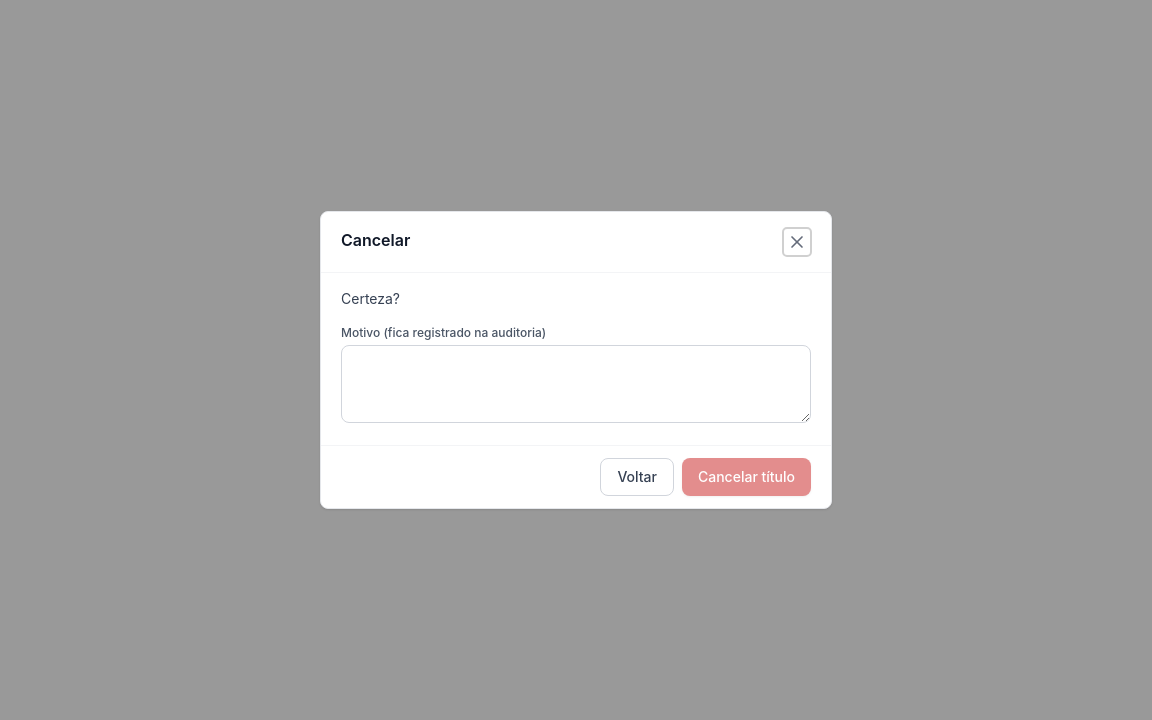
ConfirmarComMotivo: falha do callback › falha: mostra a mensagem, libera o botão e mantém o motivo digitado
In the text box labelled "Motivo (fica registrado na auditoria)": (576, 384) x1=341 y1=345 x2=811 y2=423, type "Lançado em duplicidade"
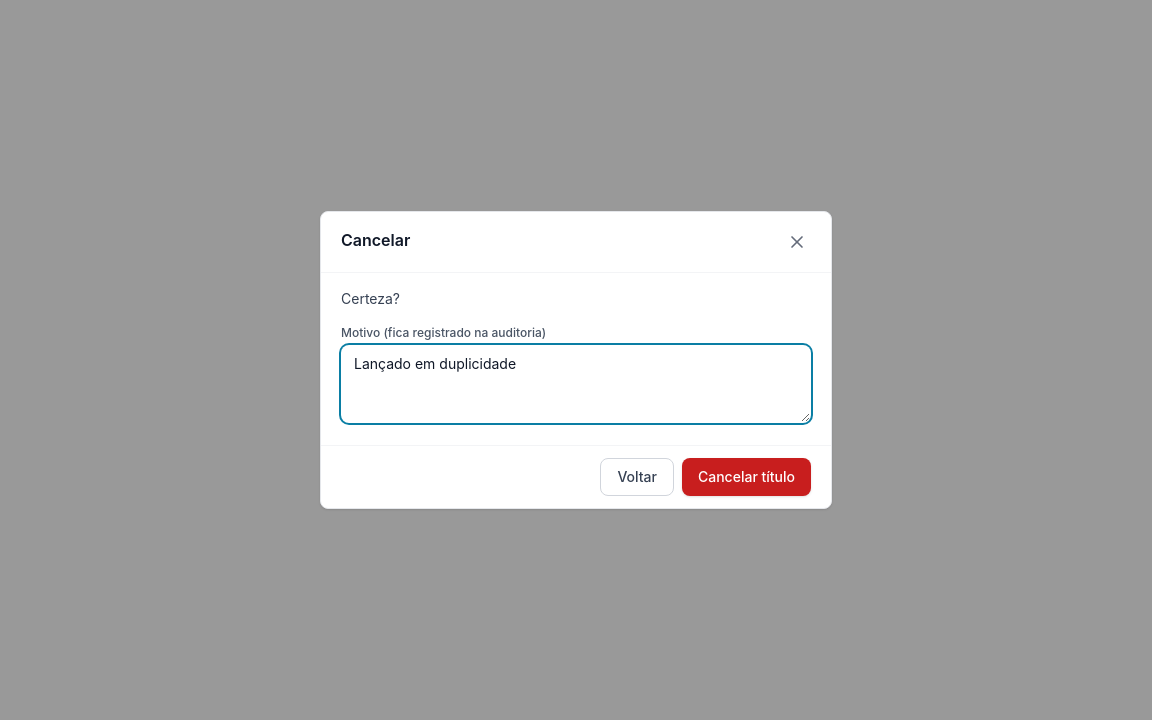
Click the button "Cancelar título": (746, 477) x1=682 y1=458 x2=811 y2=496
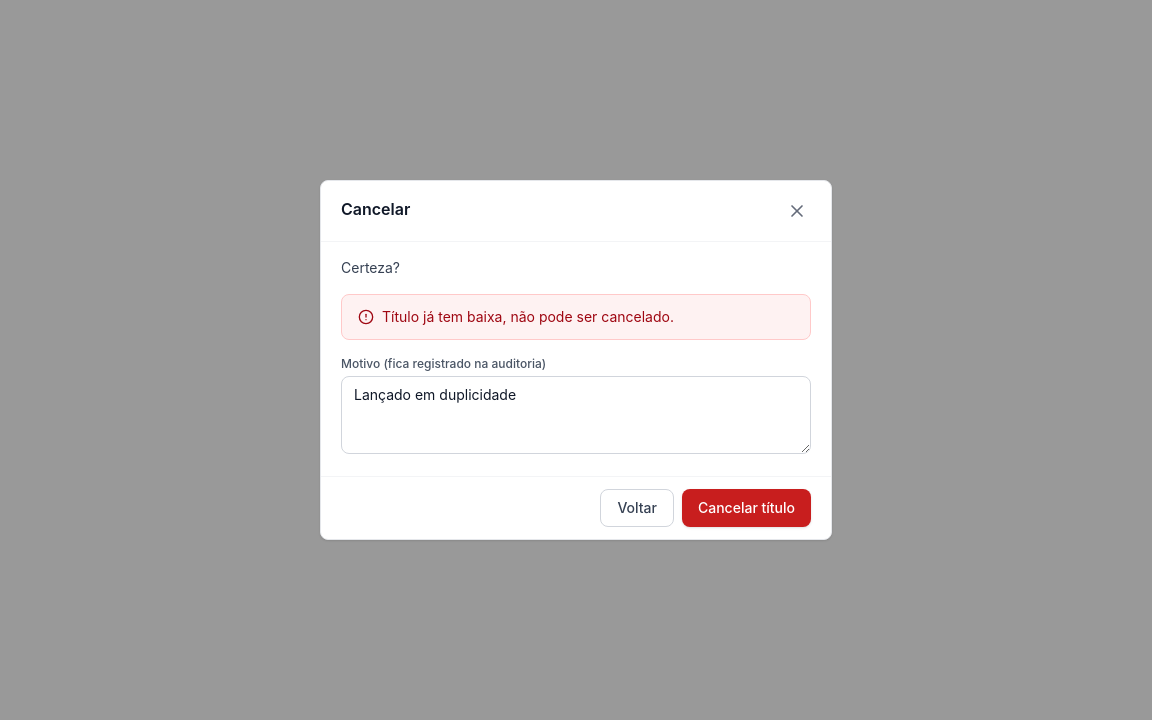
Result: the button "Cancelar título" is enabled at x1=682 y1=489 x2=811 y2=527
Result: the message reads "Título já tem baixa, não pode ser cancelado." at x1=382 y1=308 x2=674 y2=325
